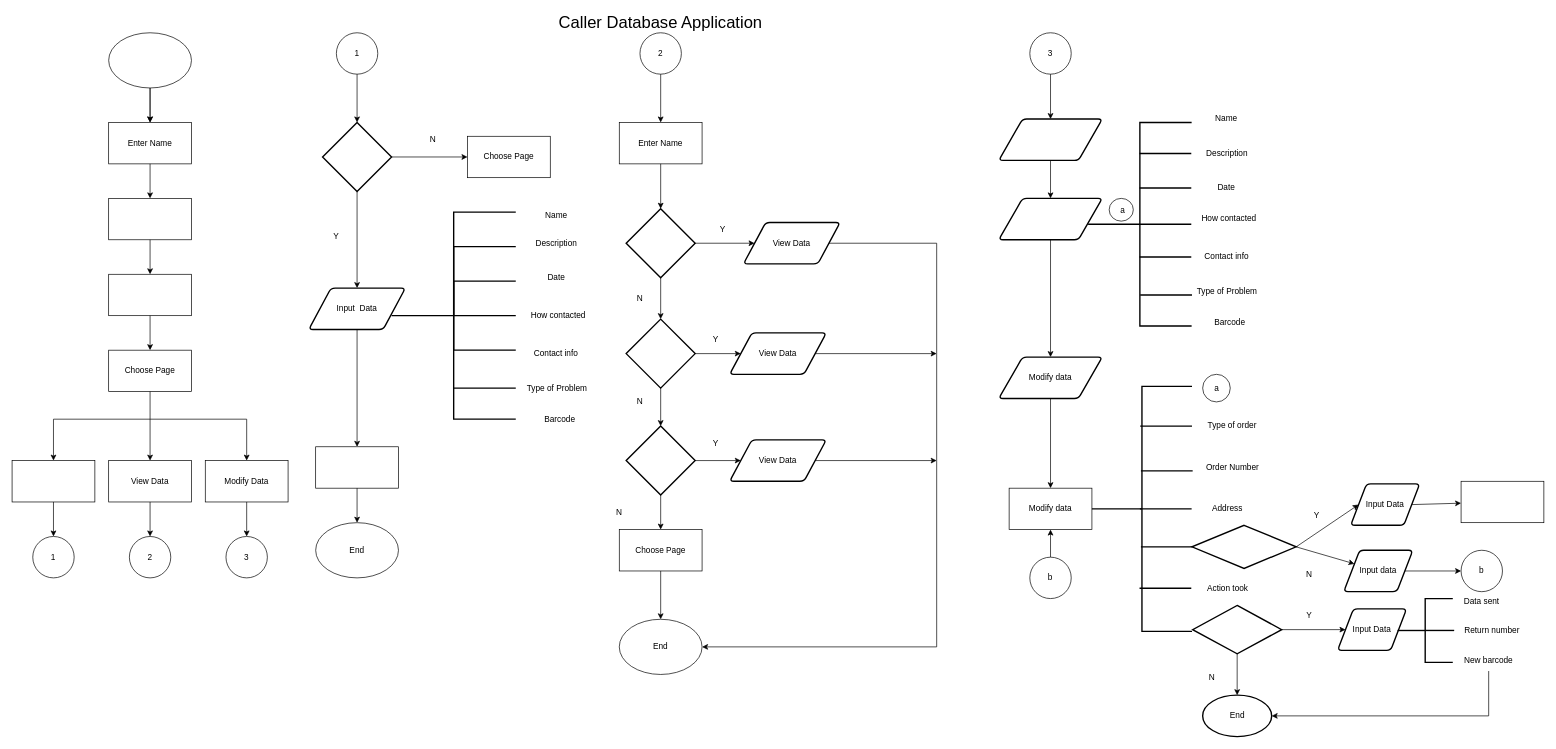
Some shapes in this 1556 by 749 pixel diagram are drawn without their labels. Each missing label, with the centre of its shape:
"Add data" goes at point (53, 481).
"Add data?" goes at point (357, 156).
"Change Language" goes at point (149, 219).
"Describe Solution" goes at point (1502, 502).
"Enter Barcode" goes at point (1050, 139).
"Load Data" goes at point (1050, 218).
"Login" goes at point (149, 295).
"New Order ?" goes at point (1237, 629).
"Not Solved ?" goes at point (660, 460).
"Ongoing ?" goes at point (660, 353).
"Problem Solved ?" goes at point (1244, 546).
"Save" goes at point (356, 467).
"Solved Problem ?" goes at point (660, 243).
"Start" goes at point (149, 60).
